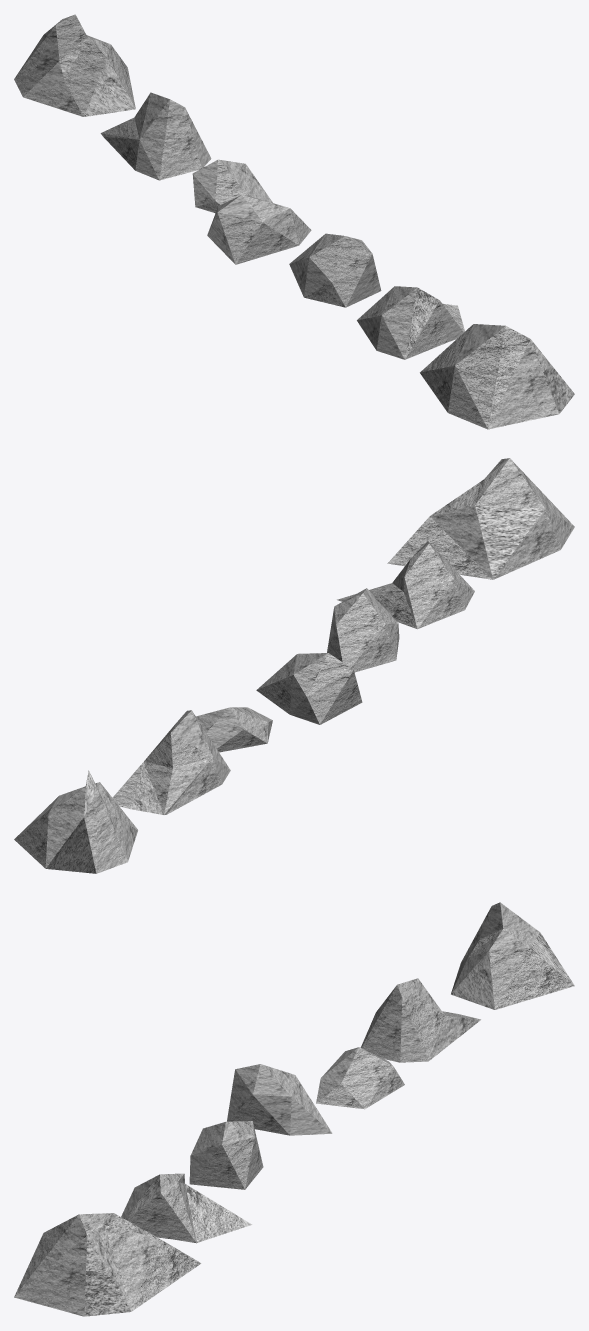
File: rocks.fbx
The picture shows the model from 3 angles, top to bottom: view 1: azimuth 30°, elevation 25°; view 2: azimuth 150°, elevation 25°; view 3: azimuth 330°, elevation 25°; orthographic projection.
Visible parts, largest first — view 1: GeoSphere005, GeoSphere007, GeoSphere006, GeoSphere004, GeoSphere003, GeoSphere002, GeoSphere001; view 2: GeoSphere005, GeoSphere007, GeoSphere006, GeoSphere004, GeoSphere002, GeoSphere003, GeoSphere001; view 3: GeoSphere005, GeoSphere007, GeoSphere006, GeoSphere004, GeoSphere002, GeoSphere003, GeoSphere001.
Part boxes in pixels (left/top/right/bottom): GeoSphere005: left=420, top=324, right=574, bottom=429; GeoSphere007: left=14, top=14, right=135, bottom=116; GeoSphere006: left=100, top=92, right=211, bottom=180; GeoSphere004: left=357, top=286, right=464, bottom=359; GeoSphere003: left=289, top=233, right=381, bottom=307; GeoSphere002: left=207, top=195, right=311, bottom=264; GeoSphere001: left=192, top=159, right=272, bottom=213; GeoSphere005: left=387, top=458, right=574, bottom=579; GeoSphere007: left=14, top=770, right=137, bottom=873; GeoSphere006: left=112, top=710, right=230, bottom=814; GeoSphere004: left=337, top=541, right=474, bottom=629; GeoSphere002: left=256, top=653, right=362, bottom=724; GeoSphere003: left=327, top=588, right=399, bottom=672; GeoSphere001: left=196, top=707, right=272, bottom=752; GeoSphere005: left=14, top=1213, right=201, bottom=1316; GeoSphere007: left=451, top=902, right=574, bottom=1009; GeoSphere006: left=360, top=978, right=480, bottom=1062; GeoSphere004: left=121, top=1173, right=251, bottom=1243; GeoSphere002: left=227, top=1064, right=332, bottom=1135; GeoSphere003: left=189, top=1121, right=263, bottom=1189; GeoSphere001: left=316, top=1047, right=404, bottom=1109.
Size of the model in its own units: 98.14 by 57.1 by 638.
7 materials, 7 textured.
